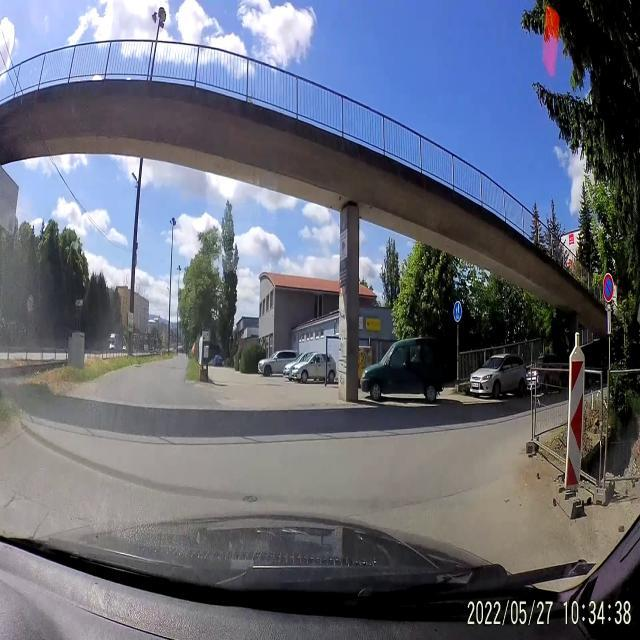Pothole: (240, 494, 262, 506)
